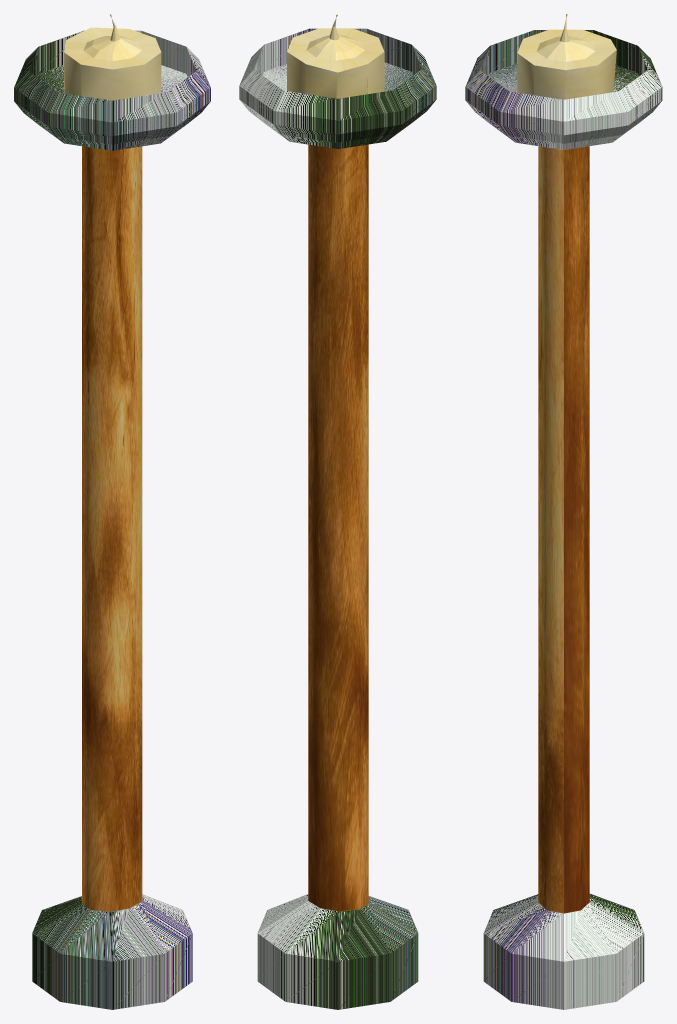
Rendered from large candle holder.FBX.
3 renders of one model, left to right at view 1: azimuth 30°, elevation 25°; view 2: azimuth 150°, elevation 25°; view 3: azimuth 270°, elevation 25°, orthographic.
Visible parts, largest first — view 1: large candle holder; view 2: large candle holder; view 3: large candle holder.
Boxes of the visible parts, box(x1,y1,x2,y2) form: large candle holder: box(14, 14, 210, 1009); large candle holder: box(239, 14, 436, 1009); large candle holder: box(465, 14, 662, 1009).
Size of the model in its own units: 16.79 by 91.75 by 17.05.
Materials: 3 (3 with a texture image).
